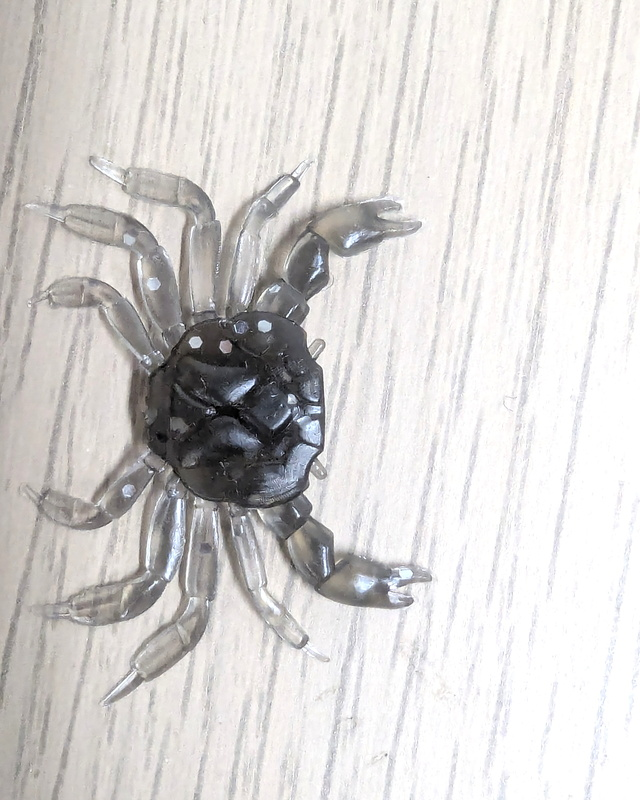crab1: (19, 153, 438, 715)
